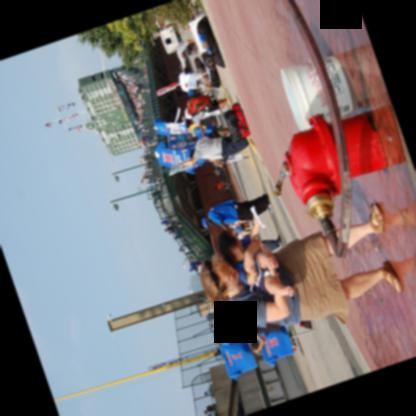backpack: (184, 94, 215, 118), (194, 56, 204, 68)
handbag: (199, 100, 212, 121)
suitcase: (197, 16, 225, 68), (232, 101, 250, 137), (223, 108, 242, 142), (201, 51, 209, 64), (211, 79, 220, 87)
